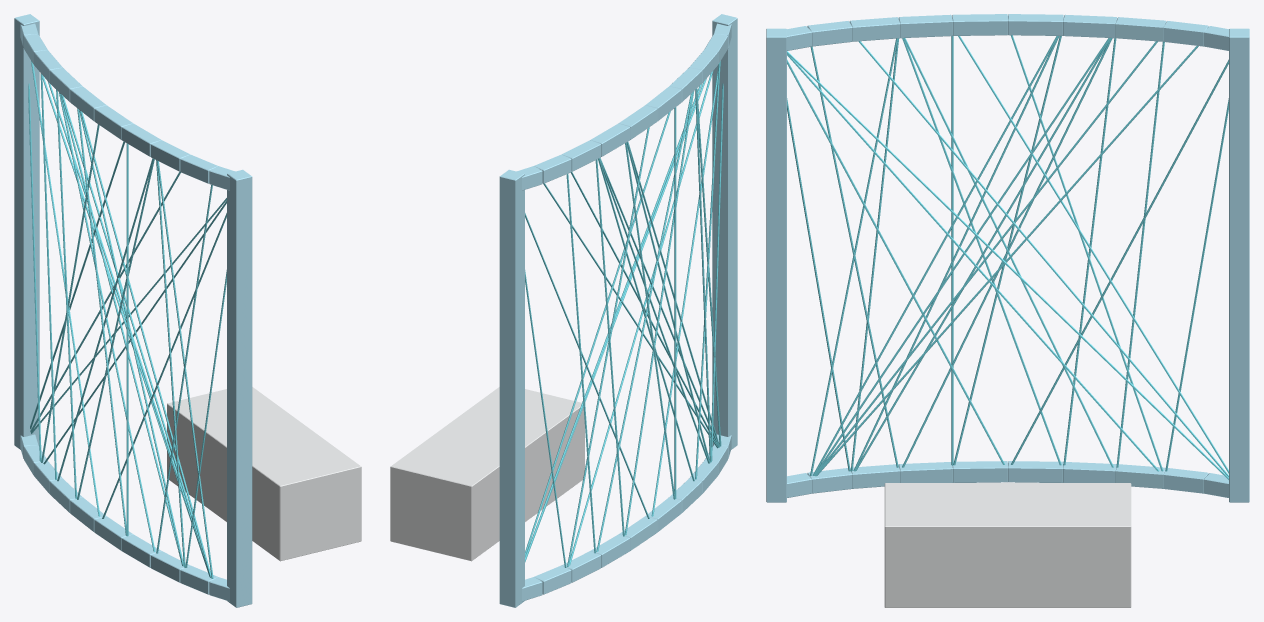
File: SM_LoomFrame.fbx
The picture shows the model from 3 angles, left to right: view 1: azimuth 30°, elevation 25°; view 2: azimuth 150°, elevation 25°; view 3: azimuth 270°, elevation 25°; orthographic projection. The views are drawn at different scales.
Parts seen in each view (by area): view 1: SM_LoomFrame; view 2: SM_LoomFrame; view 3: SM_LoomFrame.
Part boxes in pixels (<box>): SM_LoomFrame: <box>14,14,361,607</box>; SM_LoomFrame: <box>390,14,737,607</box>; SM_LoomFrame: <box>766,14,1249,607</box>.
Size of the model in its own units: 129 by 260 by 235.
